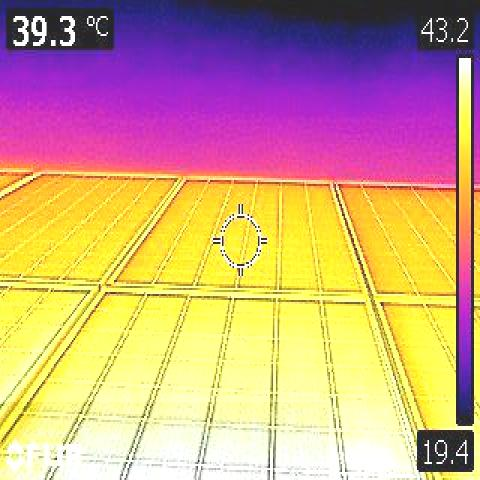fault: (0, 402, 329, 480)
